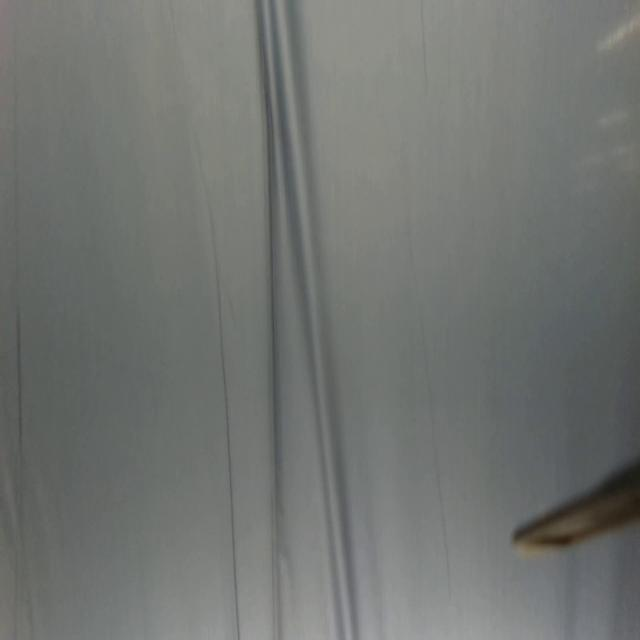crease: (166, 0, 242, 640), (406, 221, 454, 610), (254, 1, 282, 640), (10, 25, 33, 636), (418, 0, 432, 94)
